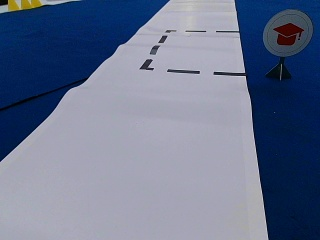school: (263, 9, 312, 55)
